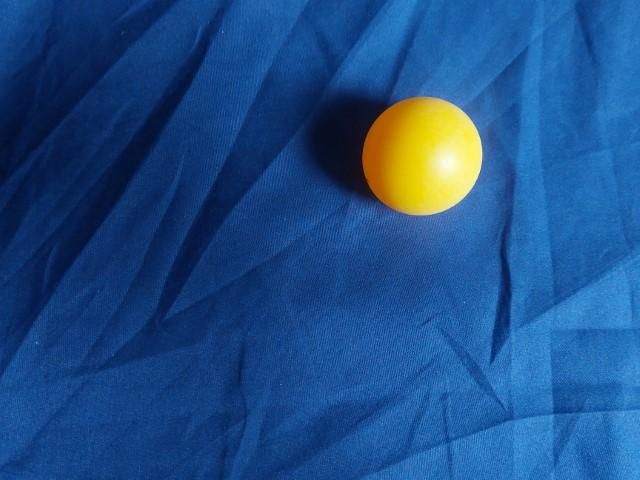oball: (154, 260, 282, 387)
